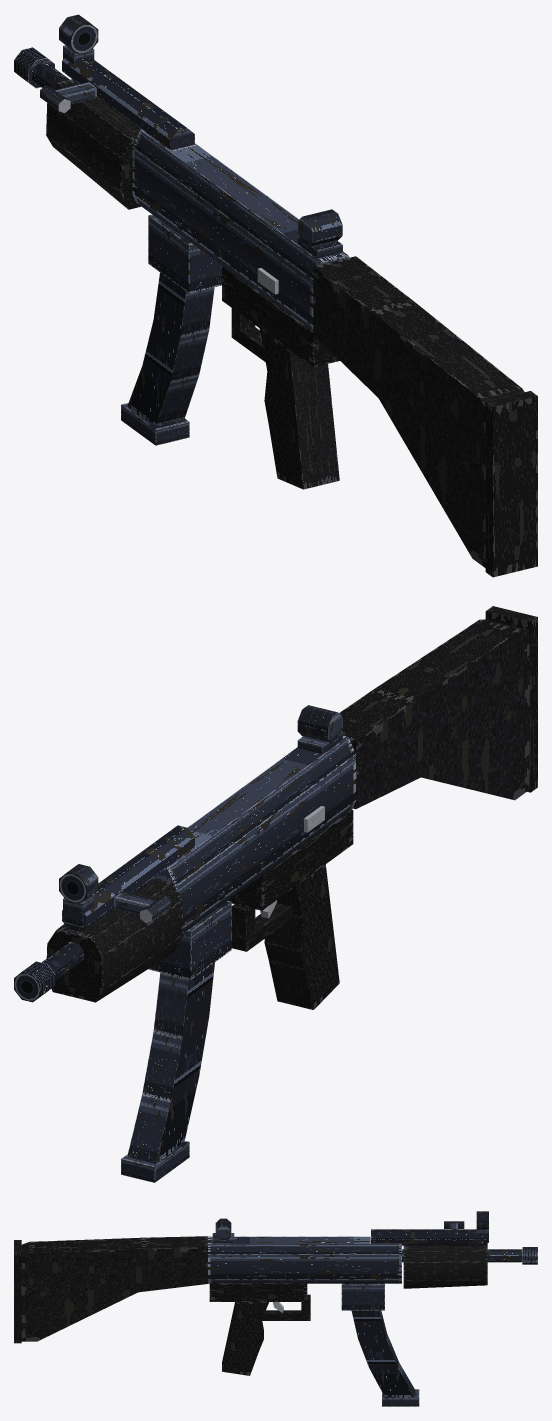
File: smg_mp5_base.glb
3 renders of one model, top to bottom at view 1: azimuth 30°, elevation 25°; view 2: azimuth 150°, elevation 25°; view 3: azimuth 270°, elevation 25°, orthographic. The views are drawn at different scales.
Visible parts, largest first — view 1: stock, receiver, trigger_group, magazine, handguard, cocking_handle; view 2: receiver, stock, trigger_group, magazine, handguard, cocking_handle; view 3: stock, receiver, trigger_group, handguard, magazine.
Boxes of the visible parts, bbox=[...] form: stock: bbox=[313, 256, 537, 577]; receiver: bbox=[14, 14, 349, 330]; trigger_group: bbox=[222, 266, 339, 489]; magazine: bbox=[121, 272, 214, 445]; handguard: bbox=[46, 79, 140, 209]; cocking_handle: bbox=[40, 82, 96, 113]; receiver: bbox=[14, 705, 355, 1002]; stock: bbox=[339, 606, 537, 809]; trigger_group: bbox=[228, 809, 353, 1009]; magazine: bbox=[121, 962, 214, 1182]; handguard: bbox=[46, 878, 183, 1002]; cocking_handle: bbox=[114, 892, 170, 923]; stock: bbox=[14, 1236, 207, 1343]; receiver: bbox=[208, 1211, 537, 1310]; trigger_group: bbox=[209, 1283, 310, 1375]; handguard: bbox=[403, 1245, 487, 1288]; magazine: bbox=[351, 1310, 419, 1406].
Size of the model in its own units: 0.0698 by 0.2691 by 0.675.
2 materials, 2 textured.
